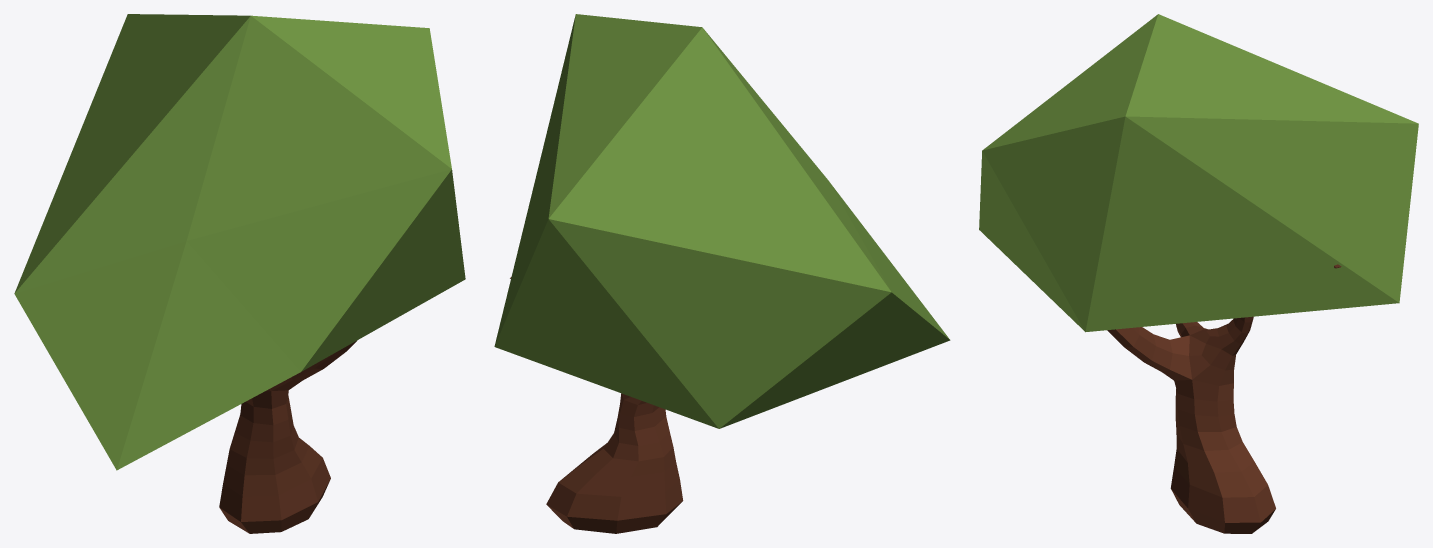
Rendered from tree1_export.fbx.
3 views of the same model, side by side, from view 1: azimuth 30°, elevation 25°; view 2: azimuth 150°, elevation 25°; view 3: azimuth 270°, elevation 25° (orthographic). The views are drawn at different scales.
Parts seen in each view (by area): view 1: Icosphere.005; view 2: Icosphere.005; view 3: Icosphere.005.
Boxes of the visible parts, left/top/right/bottom form: Icosphere.005: left=14, top=14, right=465, bottom=533; Icosphere.005: left=494, top=14, right=950, bottom=533; Icosphere.005: left=979, top=14, right=1418, bottom=533.
Bounding box in the file's own units: 885 × 1161 × 960.
